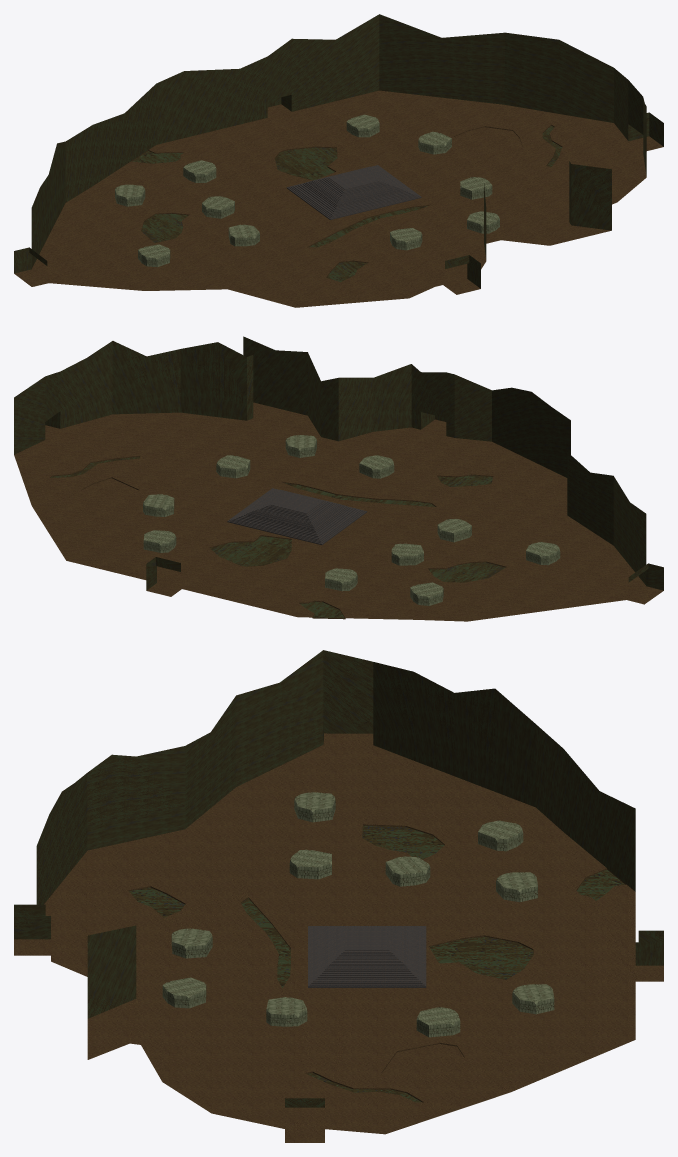
File: ARENA 0.01.fbx
3 renders of one model, top to bottom at view 1: azimuth 30°, elevation 25°; view 2: azimuth 150°, elevation 25°; view 3: azimuth 270°, elevation 25°, orthographic. The views are drawn at different scales.
Visible parts, largest first — view 1: Plane.002, Plane, Cube.004, Cube.001; view 2: Plane.002, Plane, Cube.004, Cube.001; view 3: Plane.002, Plane, Cube.004, Cube.001.
Boxes of the visible parts, left/top/right/bottom form: Plane.002: left=14, top=90, right=663, bottom=307; Plane: left=14, top=14, right=663, bottom=288; Cube.004: left=115, top=114, right=499, bottom=267; Cube.001: left=286, top=165, right=421, bottom=219; Plane.002: left=14, top=402, right=663, bottom=621; Plane: left=14, top=336, right=663, bottom=590; Cube.004: left=143, top=435, right=560, bottom=605; Cube.001: left=227, top=488, right=367, bottom=544; Plane.002: left=14, top=733, right=663, bottom=1142; Plane: left=14, top=650, right=663, bottom=1107; Cube.004: left=162, top=792, right=554, bottom=1037; Cube.001: left=308, top=926, right=426, bottom=987.
Size of the model in its own units: 44650 by 5336 by 29954.
Materials: 4 (4 with a texture image).
